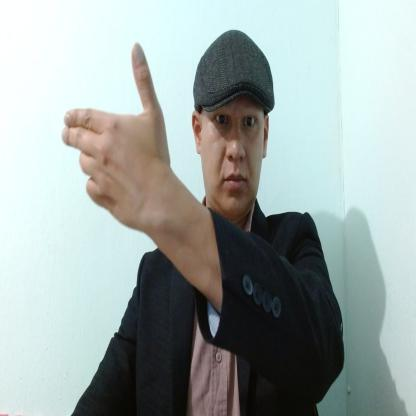H: (61, 41, 171, 232)
